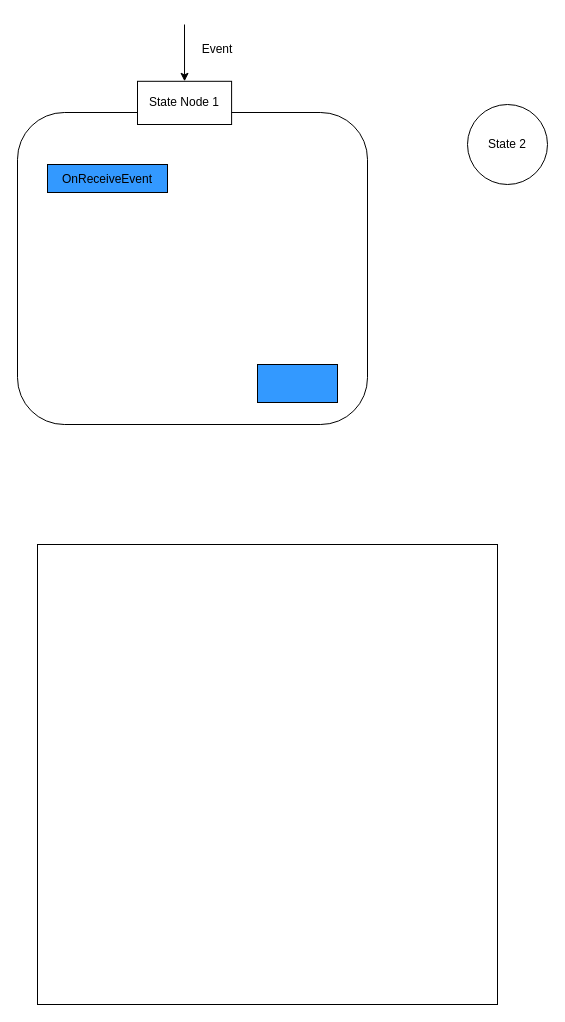
The diagram is 565 pixels wide and 1022 high, and some of its shapes have lost their labels. The shapes that lost their labels are listed below. From the top down, each one's box as (x1, y1, x2, y2) in pixels, then its label:
(256, 364, 338, 402): Daemon
(36, 544, 498, 1004): FSM
